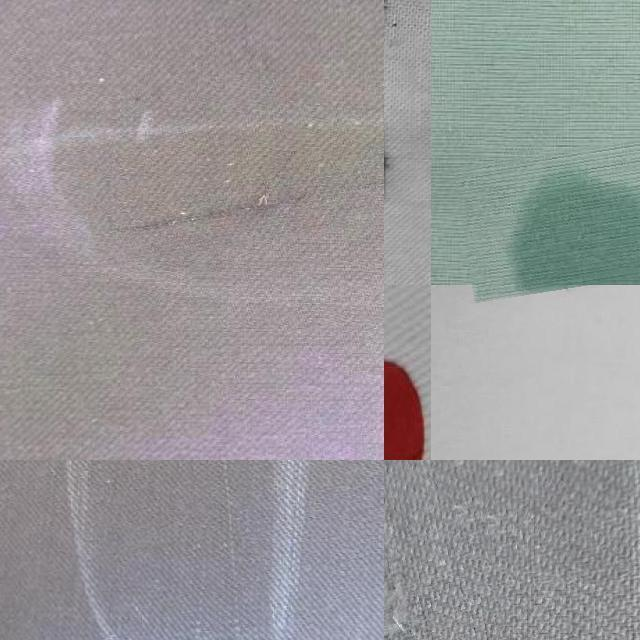Hole: (457, 138, 640, 294), (384, 98, 418, 230), (509, 0, 623, 24)
Thread_other: (85, 133, 384, 250), (384, 460, 539, 640), (149, 460, 256, 640)
